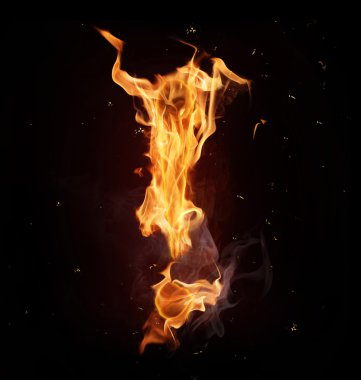fire: (100, 24, 230, 344)
